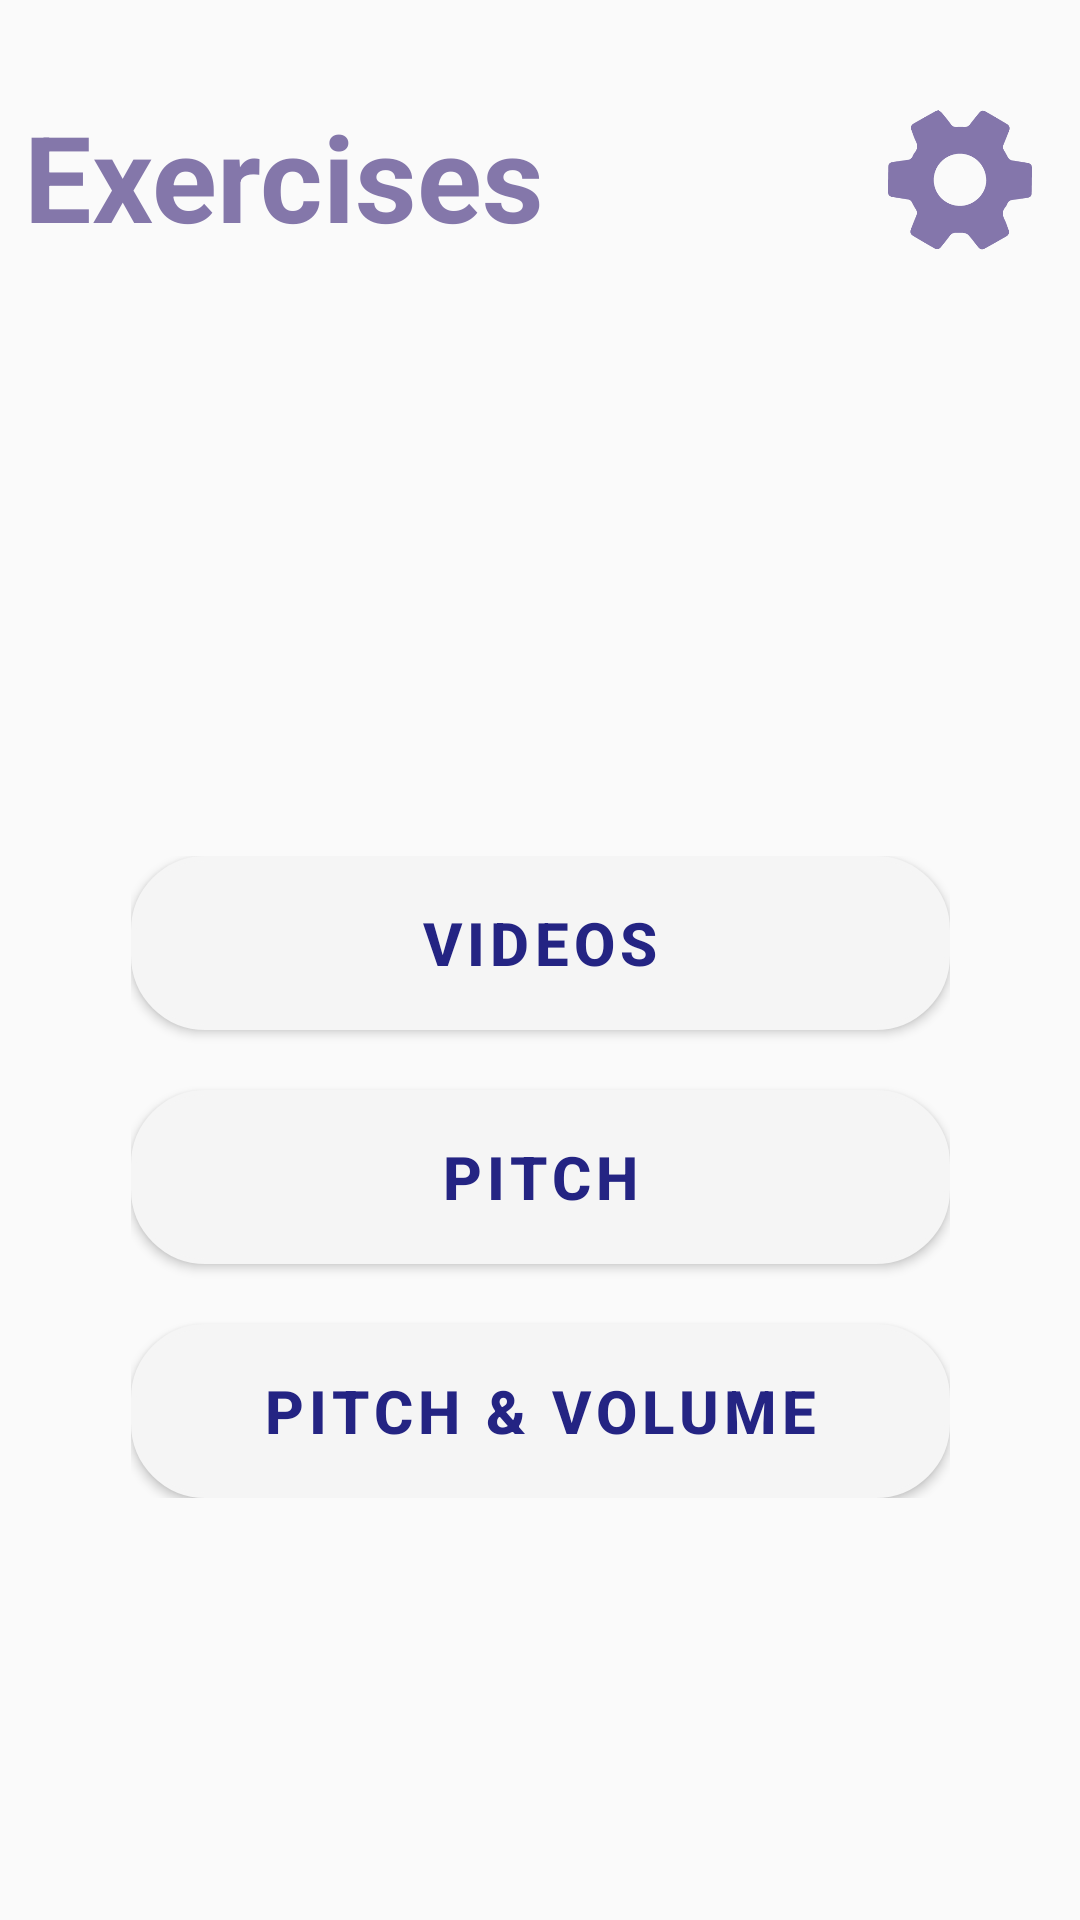

Icons on this 1080px x 1920px Android screen, each with its box as [left=x1, top=y1, right=x2, bottom=y2]:
The Settings Button: [left=888, top=110, right=1032, bottom=250]
